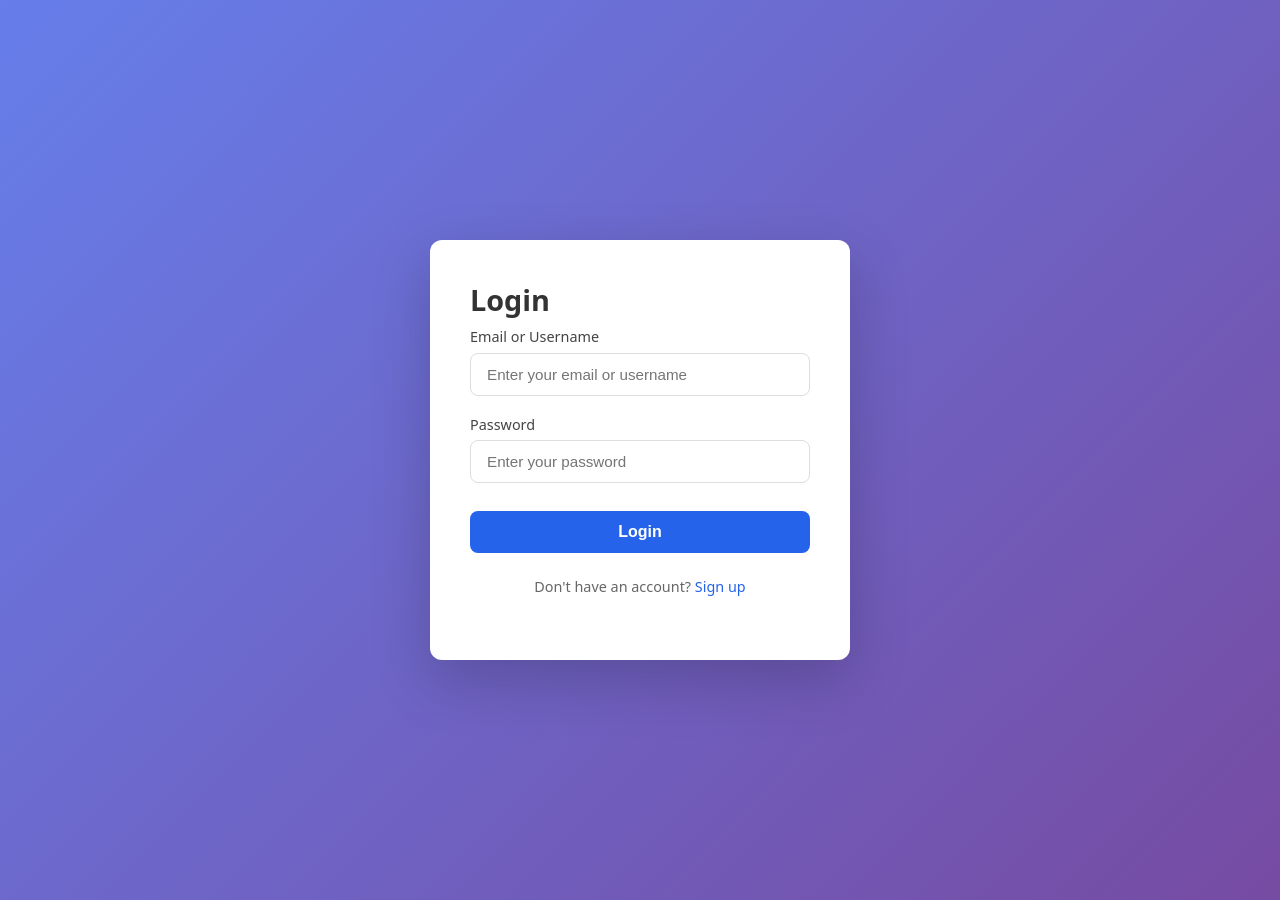
Test case: Login Page › shows error when fields are empty
This screenshot has width=1280, height=900.
What coordinates should you click on to do the following:
click the button "Login"
I would click on:
 (640, 532)
Its box is [470,511,810,553].
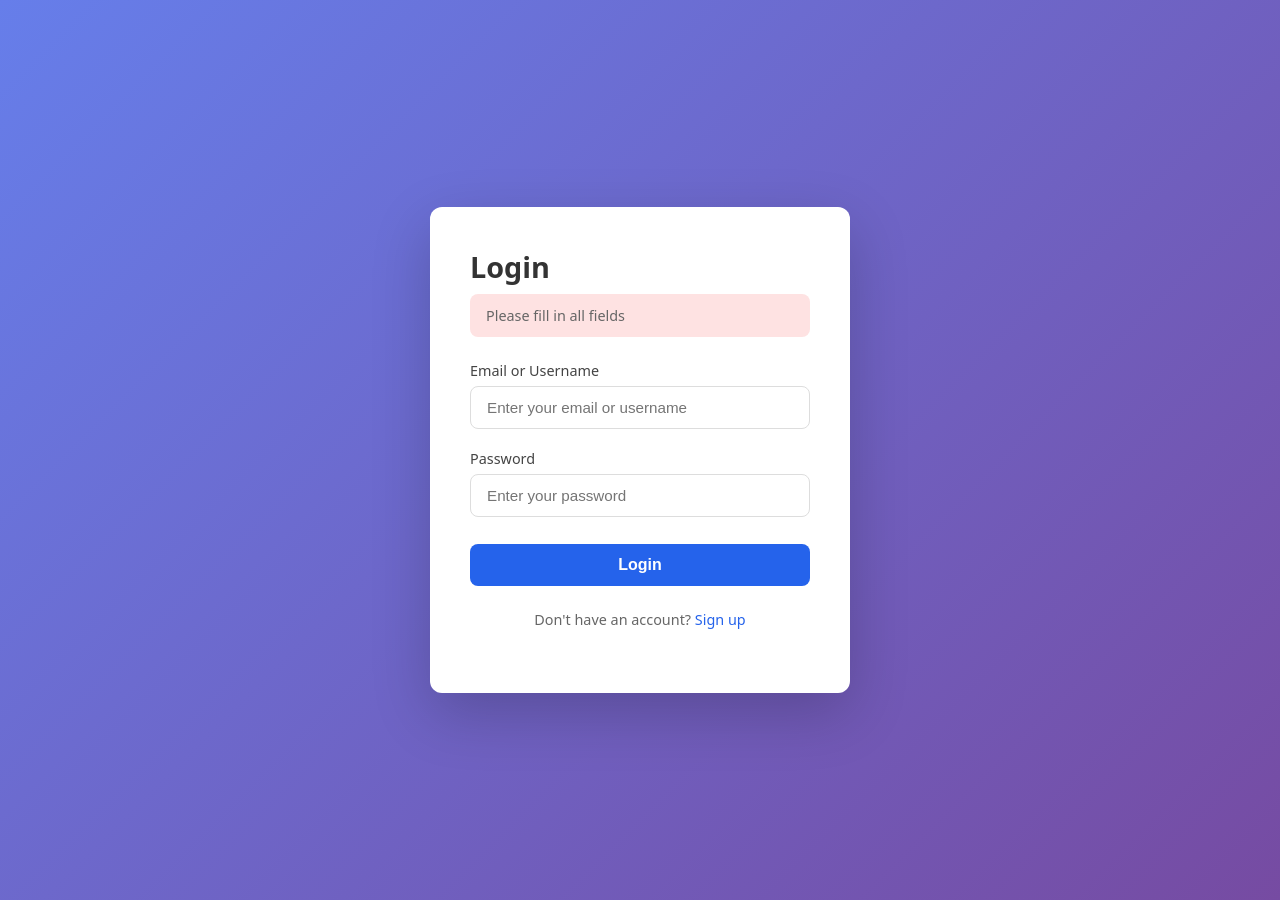
Expected: the text "Please fill in all fields" is shown, [470,294,810,337]
